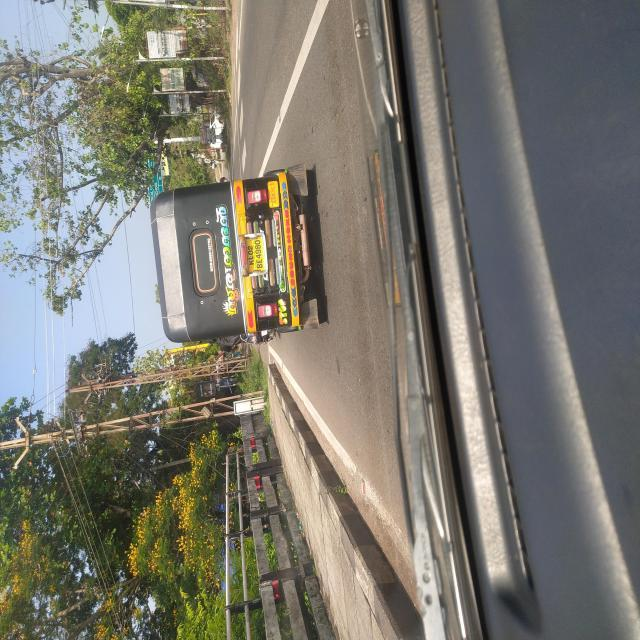plate: (243, 229, 265, 278)
